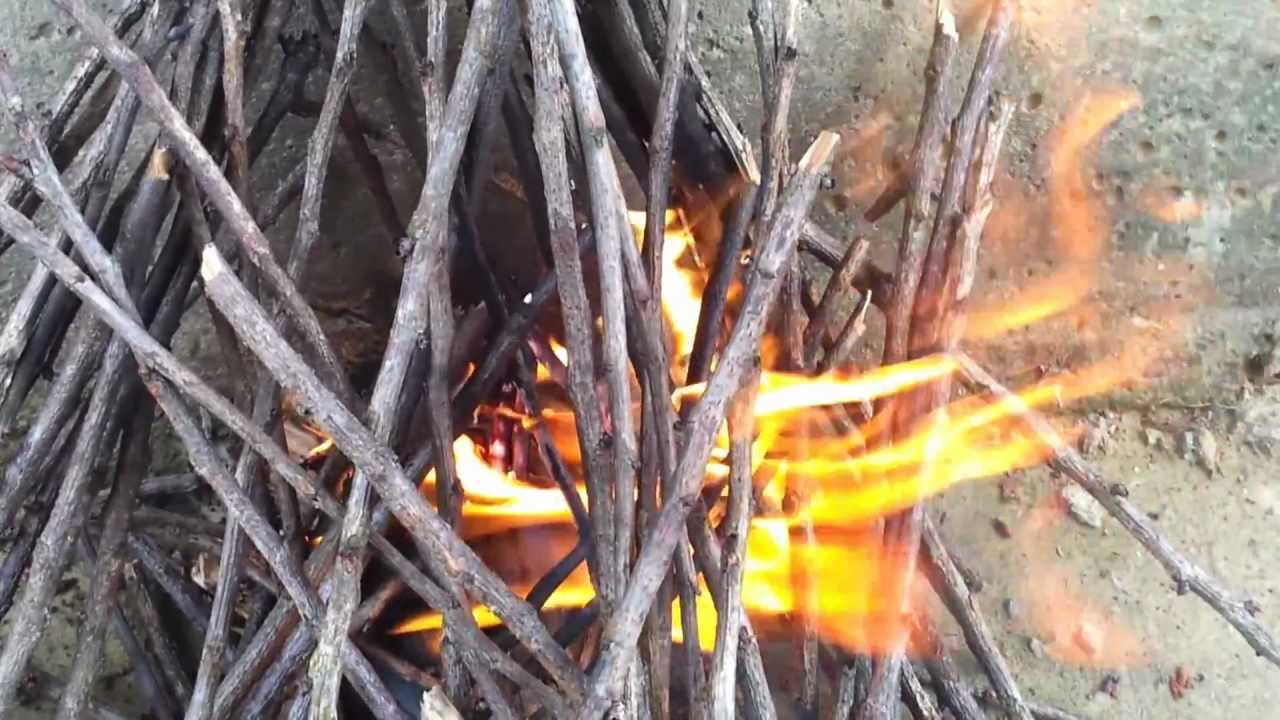wood_together: (9, 79, 659, 663)
